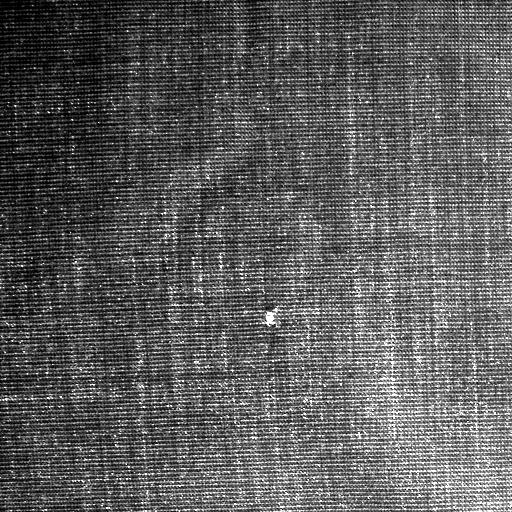fabric_hole: (256, 301, 284, 333)
